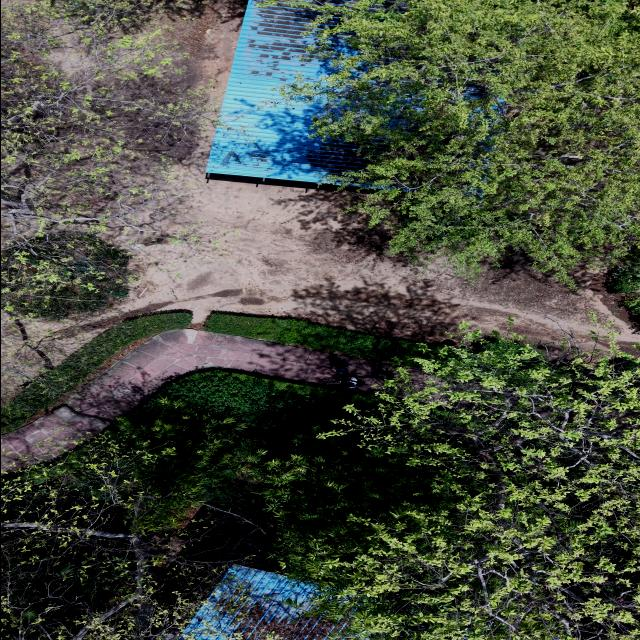DRY_AREA: (26, 127, 639, 363), (78, 138, 639, 354), (119, 131, 639, 350), (97, 147, 639, 349), (122, 155, 639, 347), (120, 186, 639, 349), (1, 329, 351, 473), (1, 329, 349, 472)
ROOFTOP_BUILDING: (207, 0, 364, 189), (207, 0, 363, 190), (181, 566, 340, 639)
VEGETATION_TREE: (1, 314, 639, 639), (3, 335, 639, 639), (169, 336, 638, 639), (3, 372, 415, 639), (304, 339, 639, 639), (290, 0, 639, 284), (1, 372, 371, 639), (1, 2, 205, 430), (1, 398, 267, 639), (1, 3, 203, 319), (113, 371, 411, 561), (1, 409, 232, 639), (1, 5, 201, 232), (1, 435, 220, 639), (111, 371, 377, 536), (1, 312, 191, 432), (106, 397, 264, 532), (144, 371, 377, 429), (205, 313, 426, 366), (1, 233, 129, 320), (37, 0, 204, 34), (606, 250, 639, 329), (608, 257, 639, 313)
